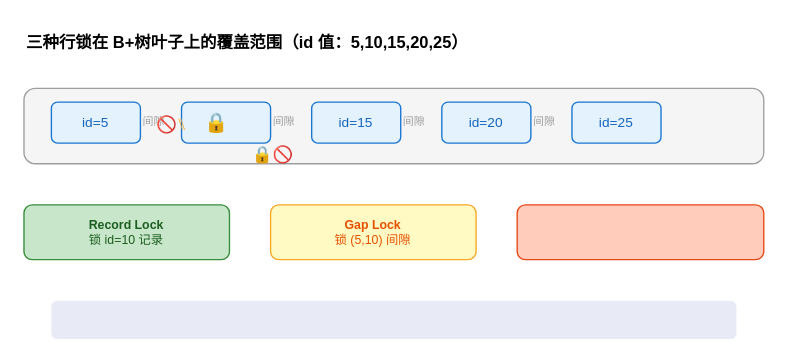
This 788x362 diagram has some shape labels left out. Each missing label, with the box of its shape:
id=10: (180, 101, 271, 143)
Next-Key Lock 锁 (5,10] = 间隙+记录: (516, 203, 764, 260)
💡 Next-Key Lock = Record Lock + Gap Lock — InnoDB RR 级别默认使用，彻底防幻读: (51, 300, 736, 338)
